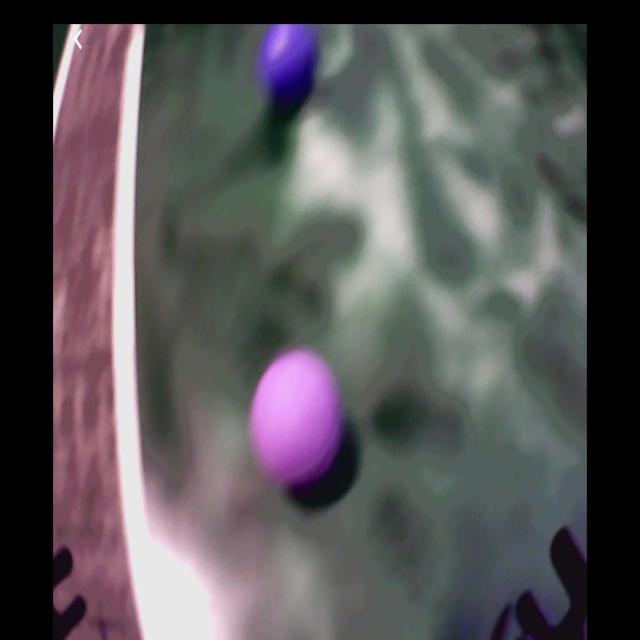ball: (248, 349, 342, 493), (261, 25, 319, 103)
